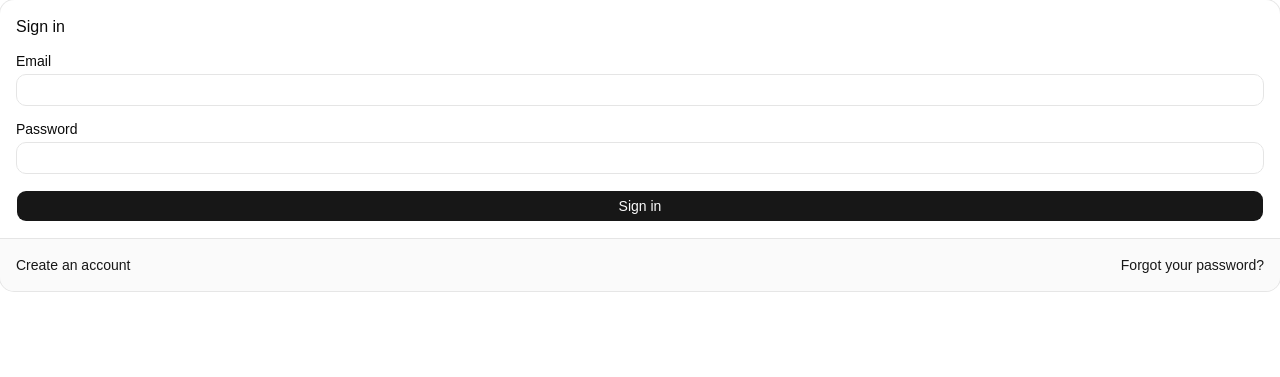
Test: auth pages › links between the login and register pages
The width and height of the screenshot is (1280, 377).
Click the link "Create an account": [73, 265] box [16,255,130,275]
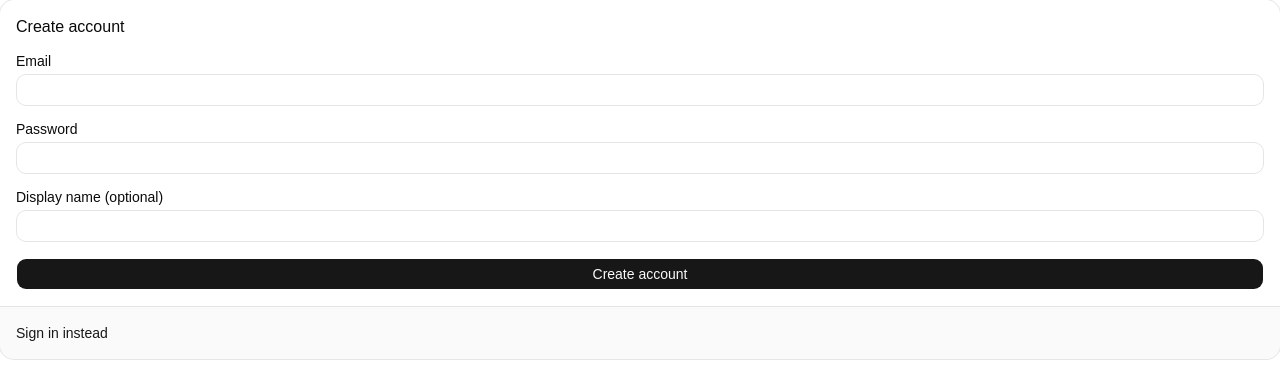
Now the heading "Create account" is shown, box [16,18,124,35]
Click the link "Sign in instead": [62, 333] box [16,323,108,343]
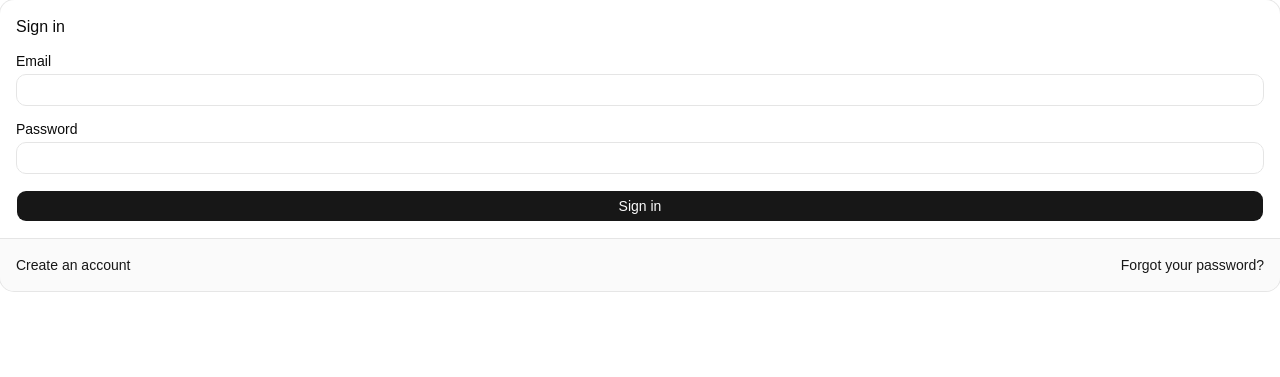
Now the heading "Sign in" is shown, box [16,18,65,35]
